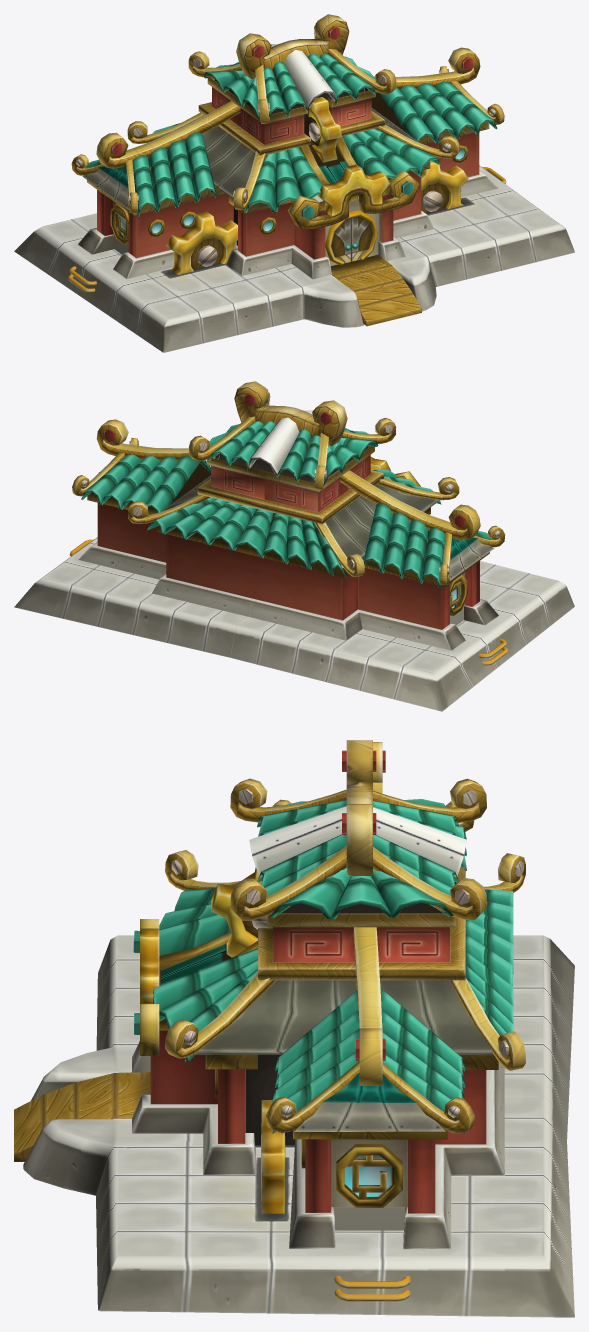
Rendered from dojo.fbx.
3 renders of one model, top to bottom at view 1: azimuth 30°, elevation 25°; view 2: azimuth 150°, elevation 25°; view 3: azimuth 270°, elevation 25°, orthographic. The views are drawn at different scales.
Parts seen in each view (by area): view 1: polySurface728; view 2: polySurface728; view 3: polySurface728.
Boxes of the visible parts, bbox=[...] form: polySurface728: bbox=[14, 14, 574, 352]; polySurface728: bbox=[14, 381, 574, 711]; polySurface728: bbox=[14, 740, 574, 1317].
Bounding box in the file's own units: 19.18 × 9.45 × 12.91.
